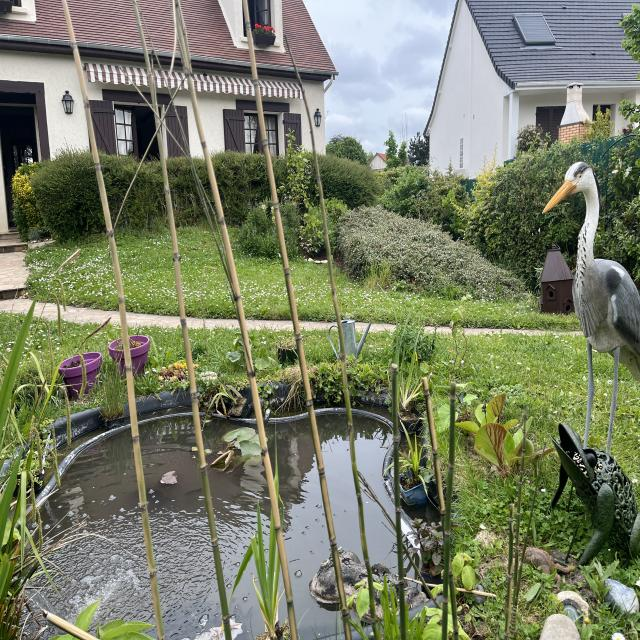Heron: (540, 146, 640, 504)
